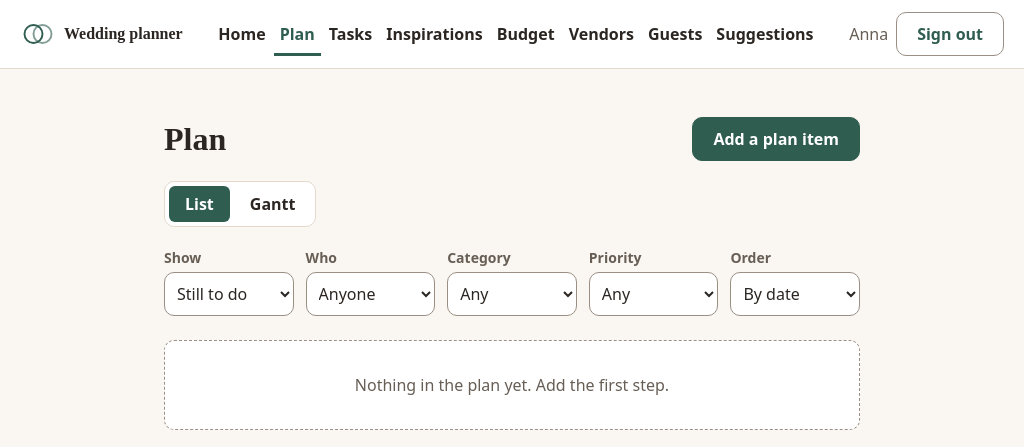
Test: the plan › says so when there is nothing yet, and when nothing matches
expect the text "Nothing in the plan yet. Add the first step." is shown: met, box x1=164 y1=340 x2=860 y2=430
Select "Done" in the dropdown labelled "Show": {"x": 229, "y": 294} x1=164 y1=272 x2=294 y2=316
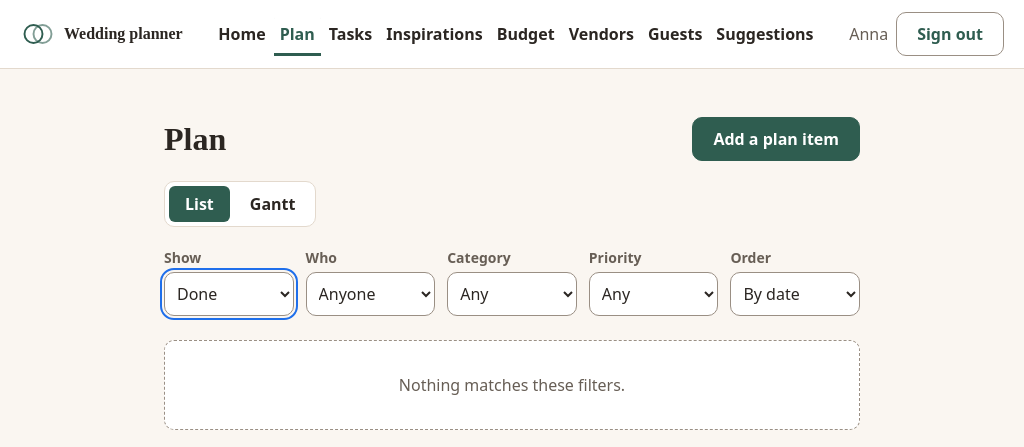
expect the text "Nothing matches these filters." is shown: met, box x1=164 y1=340 x2=860 y2=430
